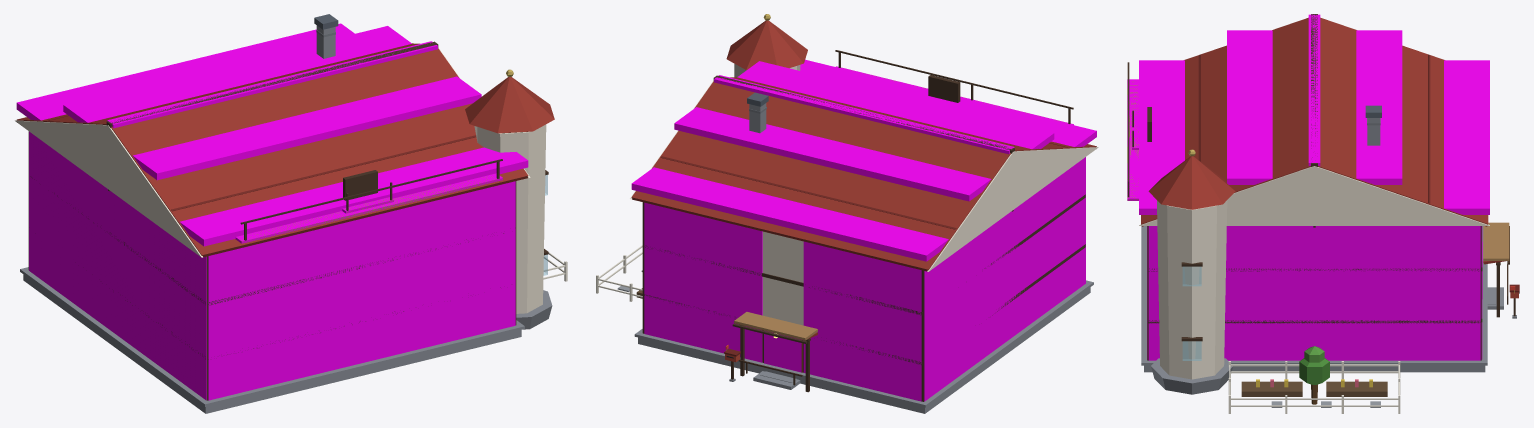
Rendered from house_t3.glb.
3 views of the same model, side by side, from view 1: azimuth 30°, elevation 25°; view 2: azimuth 150°, elevation 25°; view 3: azimuth 270°, elevation 25° (orthographic). The views are drawn at different scales.
Parts seen in each view (by area): view 1: Col_wall_B, M_b8, Col_wall_L, M_b2, Col_roof_+1_0, Col_roof_+1_1, M_b0, Col_roof_-1_0, Col_roof_-1_1, M_b3, Col_roof_ridge, Col_balcony (+2 smaller); view 2: M_b8, Col_wall_L, Col_wall_FL, Col_wall_FR, M_b2, Col_roof_-1_1, Col_roof_-1_0, Col_roof_+1_0, M_b0, M_b3, Col_roof_+1_1, Col_roof_ridge (+4 smaller); view 3: Col_wall_R, M_b8, M_b2, Col_roof_-1_1, Col_roof_+1_0, Col_roof_-1_0, M_b0, Col_roof_+1_1, M_b3, M_b18, Col_roof_ridge, M_b19 (+5 smaller).
Part boxes in pixels (x1,y1,x2,y2): Col_wall_B: (208, 181, 515, 400); M_b8: (17, 43, 554, 257); Col_wall_L: (29, 131, 206, 400); M_b2: (15, 47, 546, 313); Col_roof_+1_0: (133, 76, 481, 180); Col_roof_+1_1: (179, 147, 528, 246); M_b0: (20, 25, 552, 413); Col_roof_-1_0: (63, 26, 411, 122); Col_roof_-1_1: (16, 23, 354, 120); M_b3: (28, 41, 548, 400); Col_roof_ridge: (107, 41, 437, 128); Col_balcony: (235, 173, 502, 243); M_b8: (631, 20, 1096, 340); Col_wall_L: (924, 157, 1085, 401); Col_wall_FL: (803, 241, 921, 401); Col_wall_FR: (644, 202, 762, 362); M_b2: (630, 64, 1098, 325); Col_roof_-1_1: (631, 167, 948, 261); Col_roof_-1_0: (674, 107, 991, 201); Col_roof_+1_0: (737, 61, 1054, 149); M_b0: (634, 103, 1093, 413); M_b3: (642, 50, 1085, 401); Col_roof_+1_1: (800, 59, 1096, 146); Col_roof_ridge: (714, 75, 1014, 154); Col_wall_R: (1148, 226, 1480, 360); M_b8: (1141, 17, 1505, 264); M_b2: (1139, 166, 1489, 379); Col_roof_-1_1: (1444, 60, 1489, 214); Col_roof_+1_0: (1227, 30, 1272, 184); Col_roof_-1_0: (1356, 30, 1402, 184); M_b0: (1141, 118, 1503, 394); Col_roof_+1_1: (1139, 60, 1184, 214); M_b3: (1127, 14, 1509, 360); M_b18: (1228, 361, 1400, 413); Col_roof_ridge: (1308, 14, 1320, 165); M_b19: (1241, 381, 1387, 396).
Bounding box in the file's own units: 18.99 × 10.78 × 16.66.
